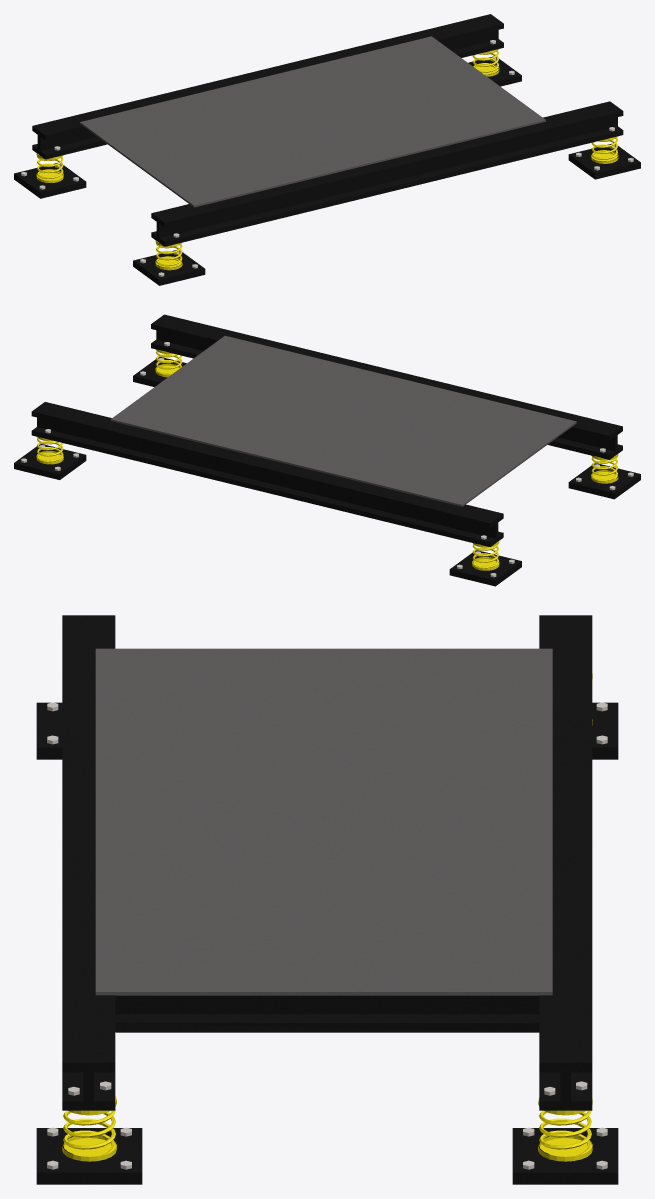
The model's file is pumpbase.fbx.
3 views of the same model, one above another, from view 1: azimuth 30°, elevation 25°; view 2: azimuth 150°, elevation 25°; view 3: azimuth 270°, elevation 25° (orthographic). The views are drawn at different scales.
Visible parts, largest first — view 1: PumpMount1; view 2: PumpMount1; view 3: PumpMount1.
Part boxes in pixels (box(x1,y1,x2,y2)): PumpMount1: box(14, 14, 640, 285); PumpMount1: box(14, 314, 640, 586); PumpMount1: box(36, 615, 618, 1184).
Bounding box in the file's own units: 5.25 × 0.597 × 2.75.
